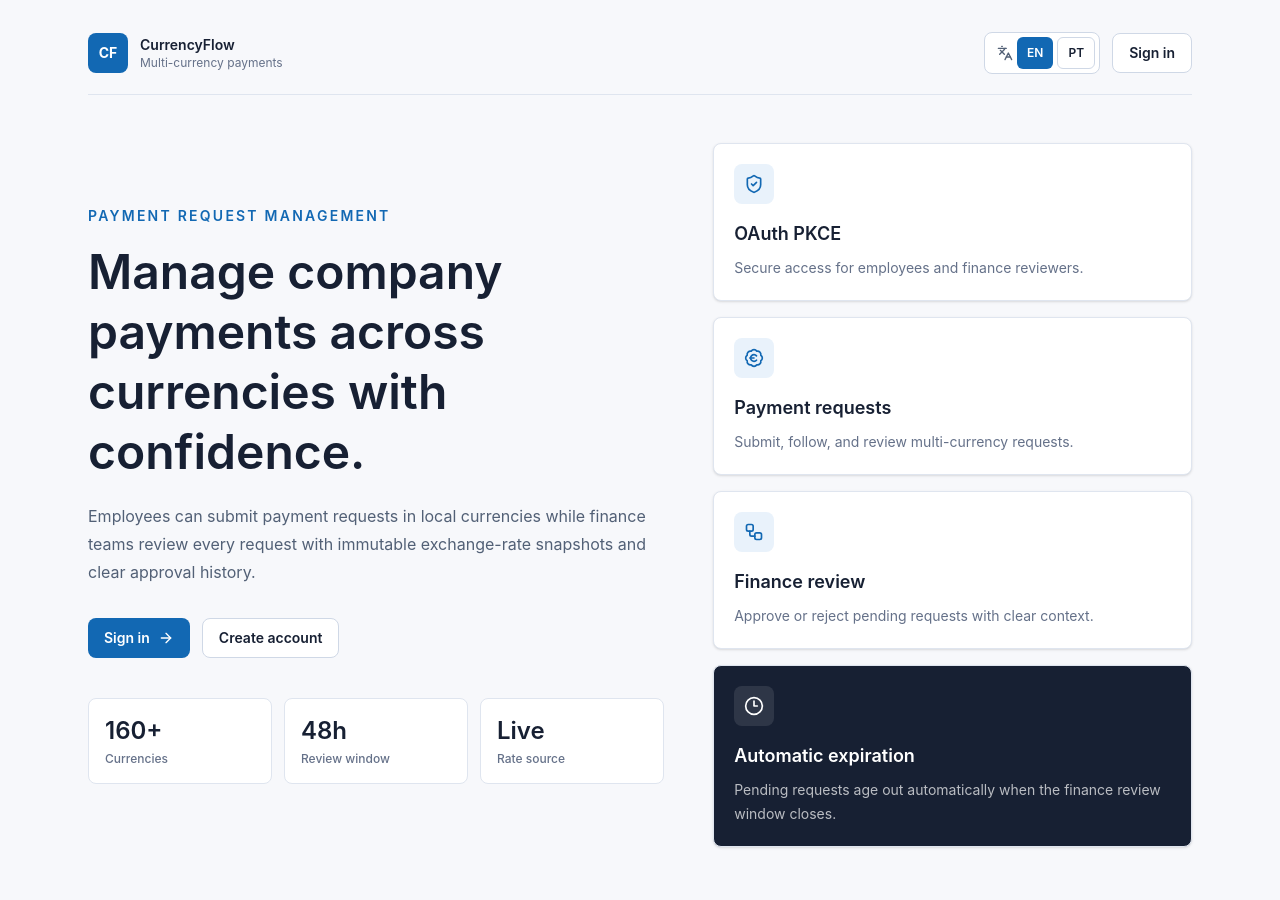
Test: HomePage › switches and persists the active language
Step 1. Click the button with aria-label "portuguese" → point(1076, 53), box [1058, 37, 1095, 69]
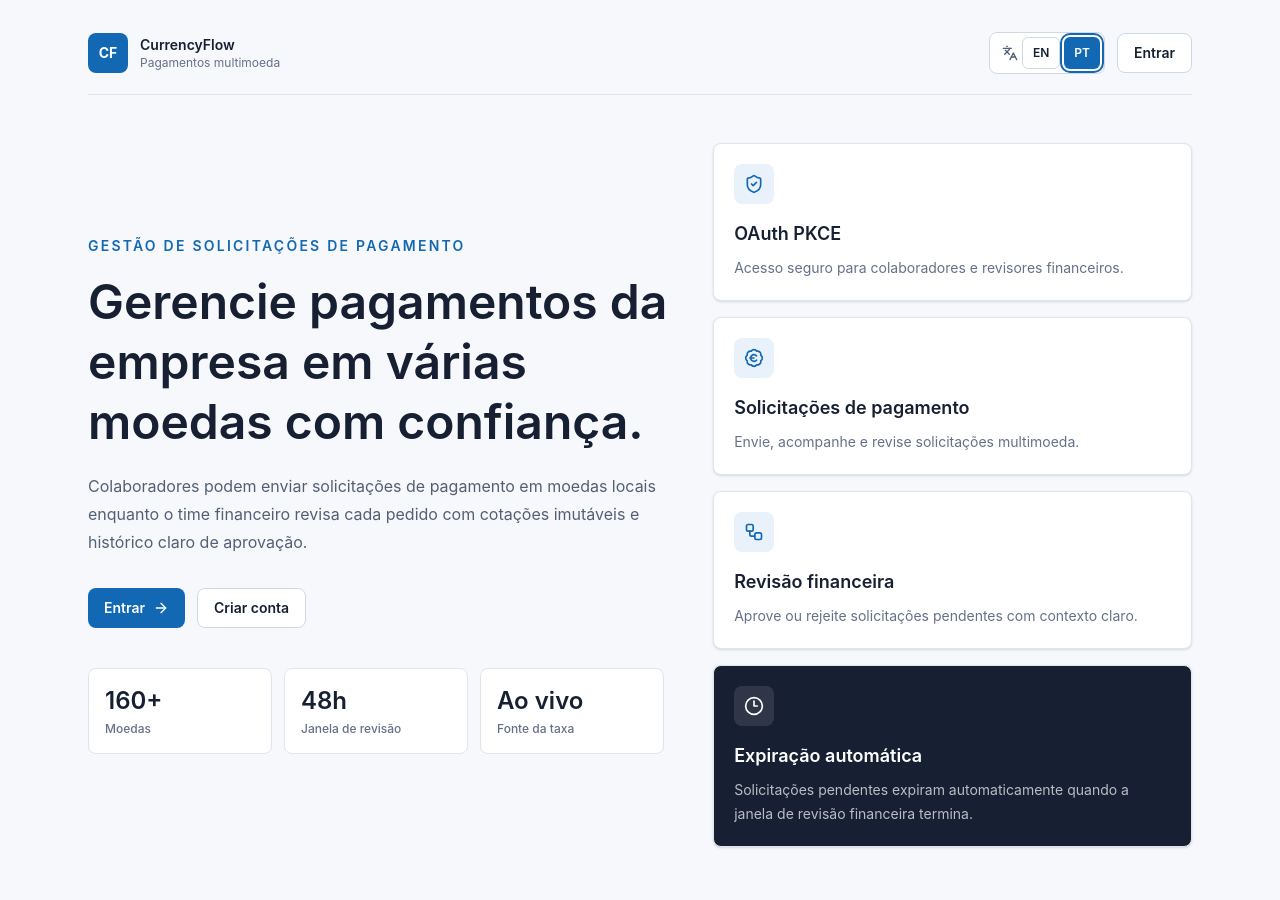
Check: the heading "Gerencie pagamentos da empresa em várias moedas com confiança" is shown, box [88, 272, 673, 452]
